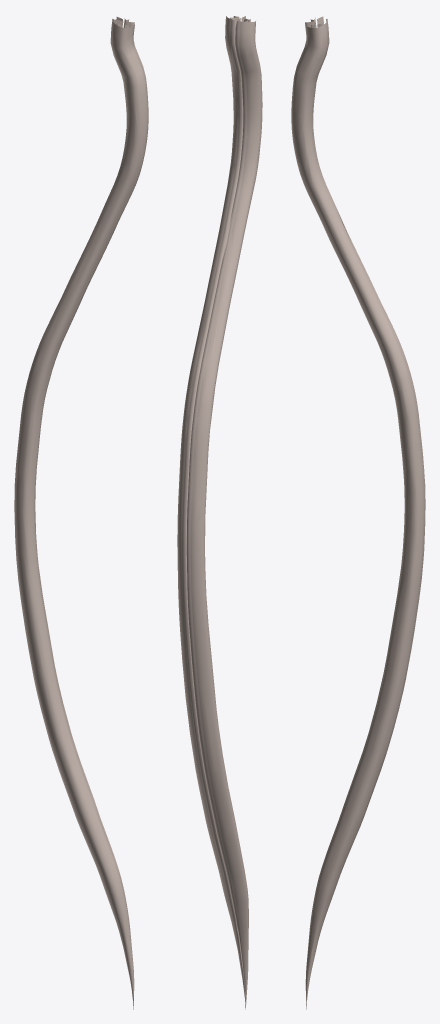
Rendered from snc-rachis.lo.glb.
The picture shows the model from 3 angles, left to right: view 1: azimuth 90°, elevation 25°; view 2: azimuth 150°, elevation 25°; view 3: azimuth 270°, elevation 25°; orthographic projection.
Visible parts, largest first — view 1: ZA-white-matter-of-spinal-cord; view 2: ZA-white-matter-of-spinal-cord; view 3: ZA-white-matter-of-spinal-cord.
Part boxes in pixels (left/top/right/bottom): ZA-white-matter-of-spinal-cord: left=14, top=19, right=148, bottom=1009; ZA-white-matter-of-spinal-cord: left=177, top=16, right=262, bottom=1009; ZA-white-matter-of-spinal-cord: left=291, top=19, right=425, bottom=1009.
Bounding box in the file's own units: 0.0141 × 0.4753 × 0.0584.
